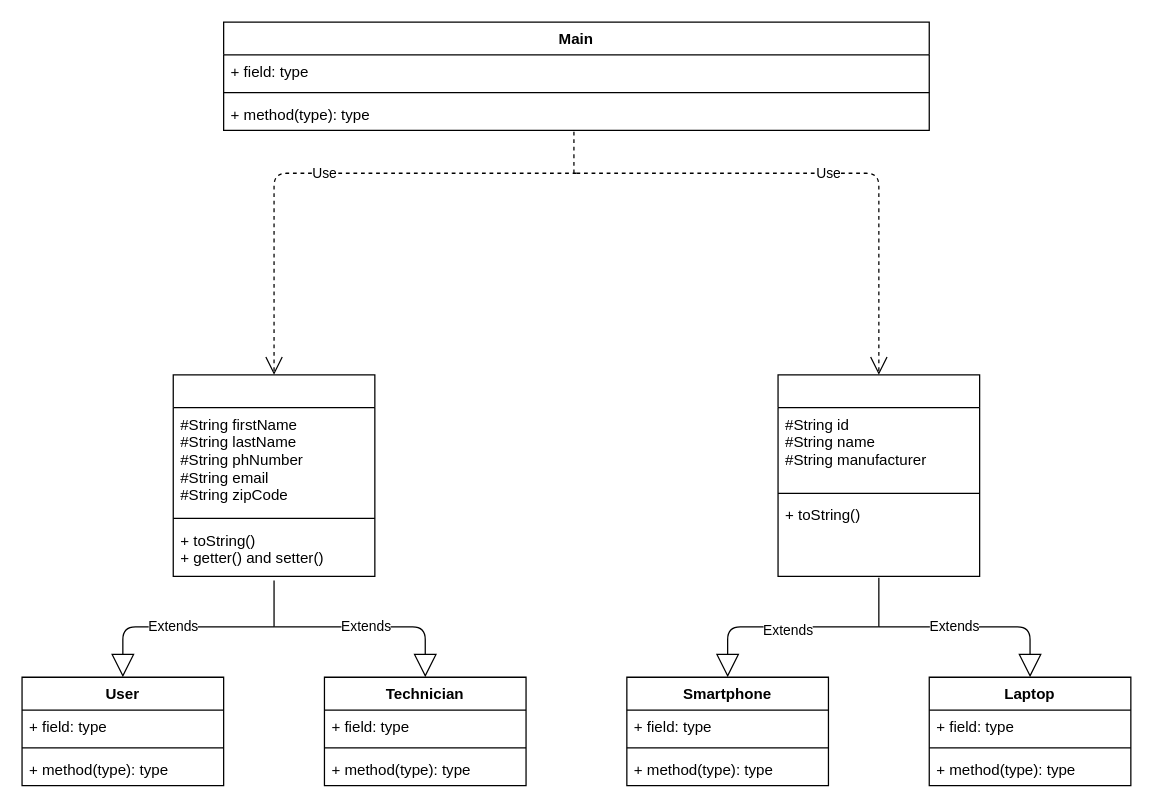
Some shapes in this 1153 by 811 pixel diagram are drawn without their labels. Here are the shapes that lost their labels. From the top down, the box of each, then its label:
(172, 374, 375, 576): Person
(777, 374, 980, 576): Device
